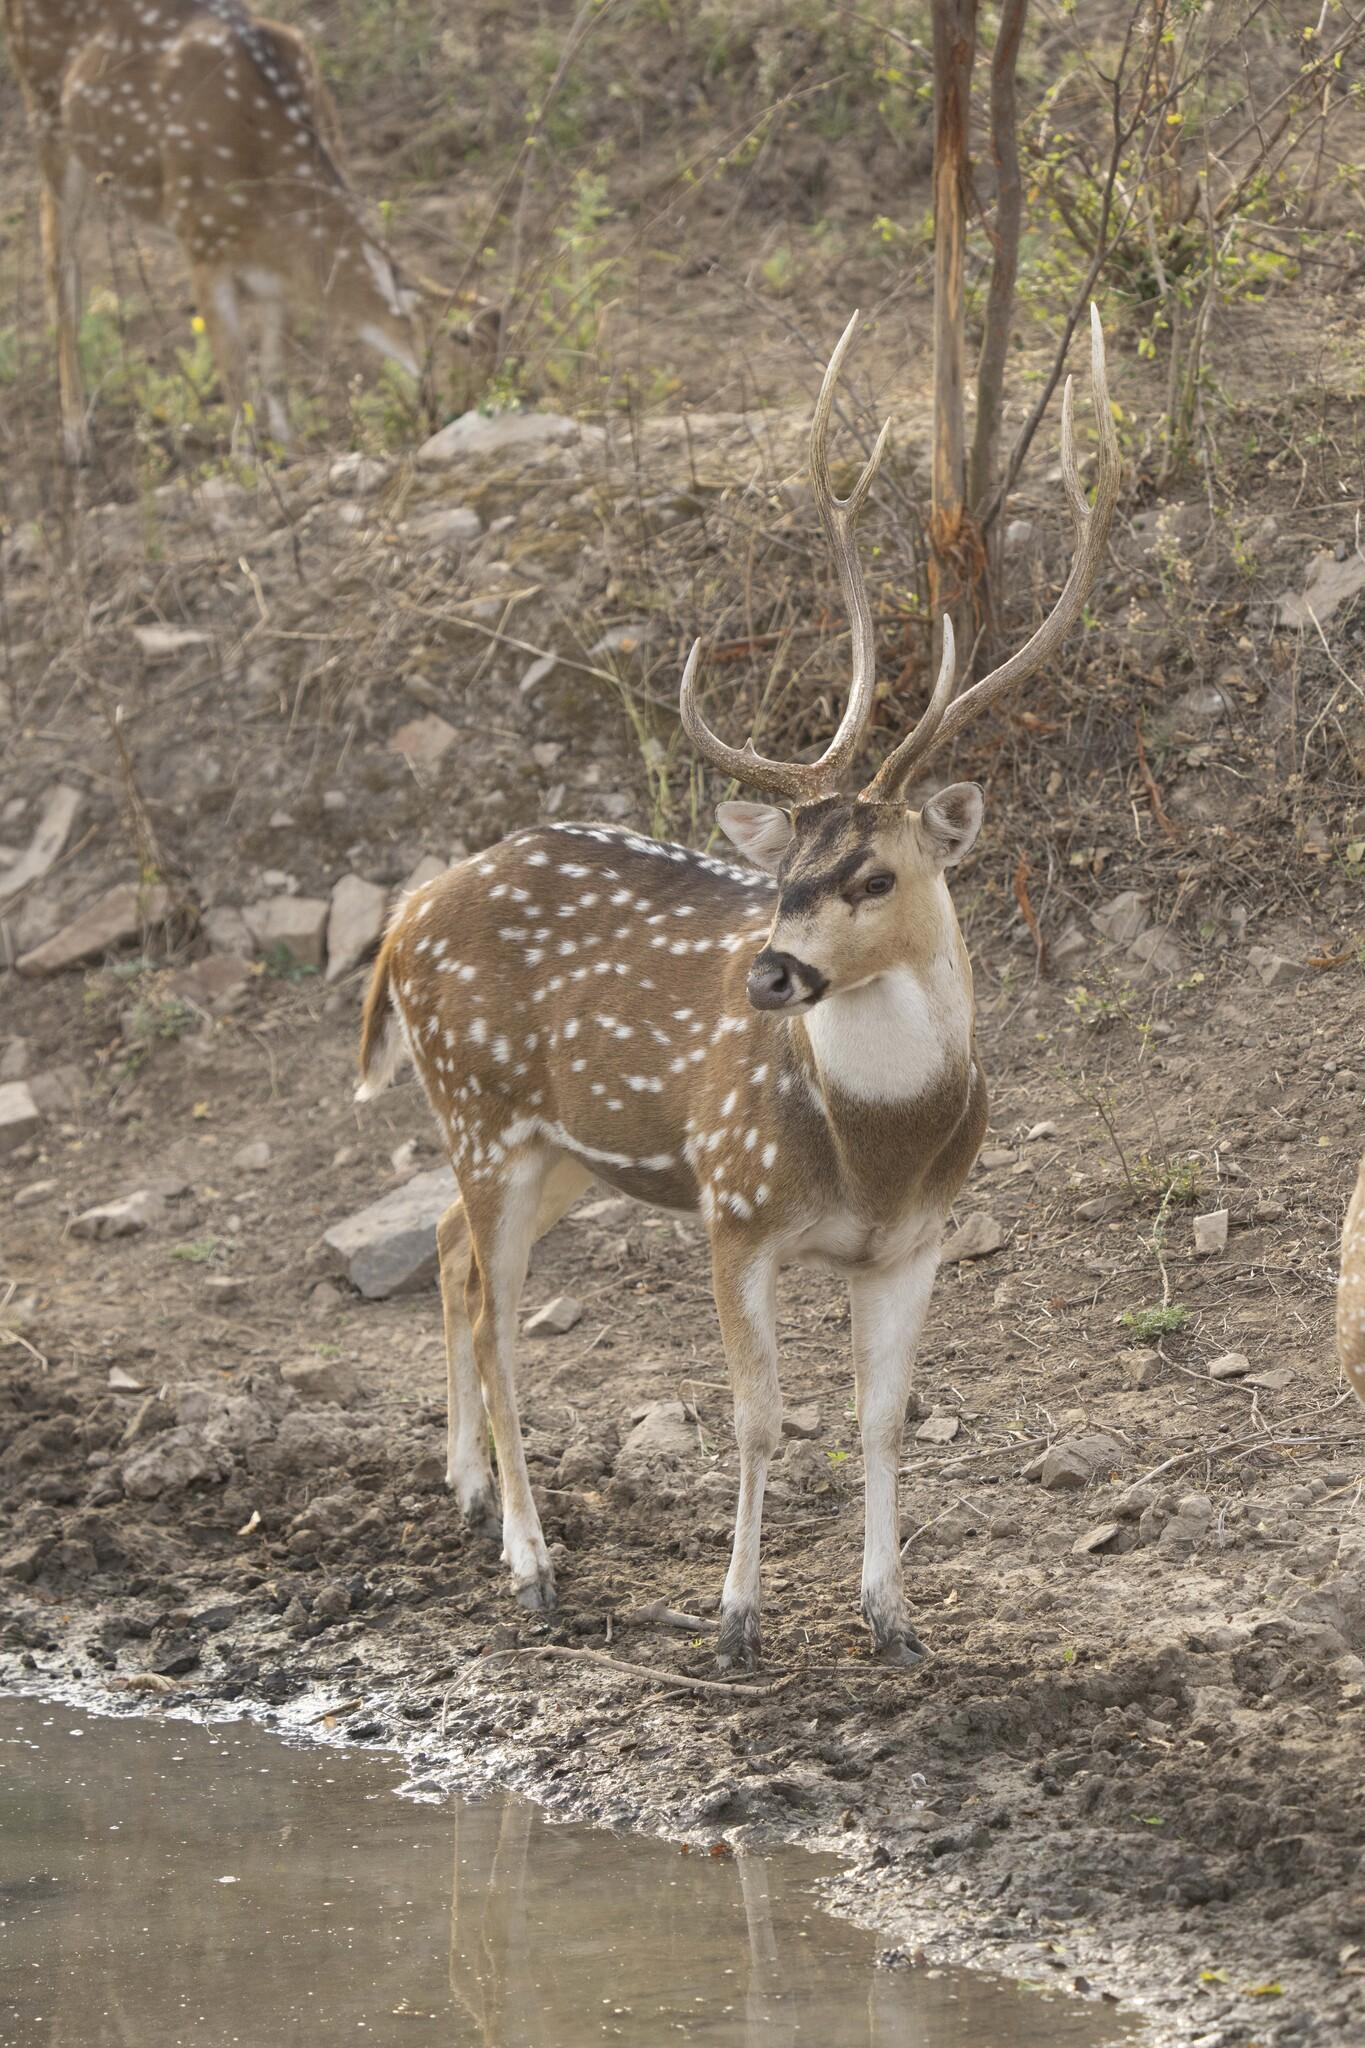Deer: (356, 315, 1120, 1661)
